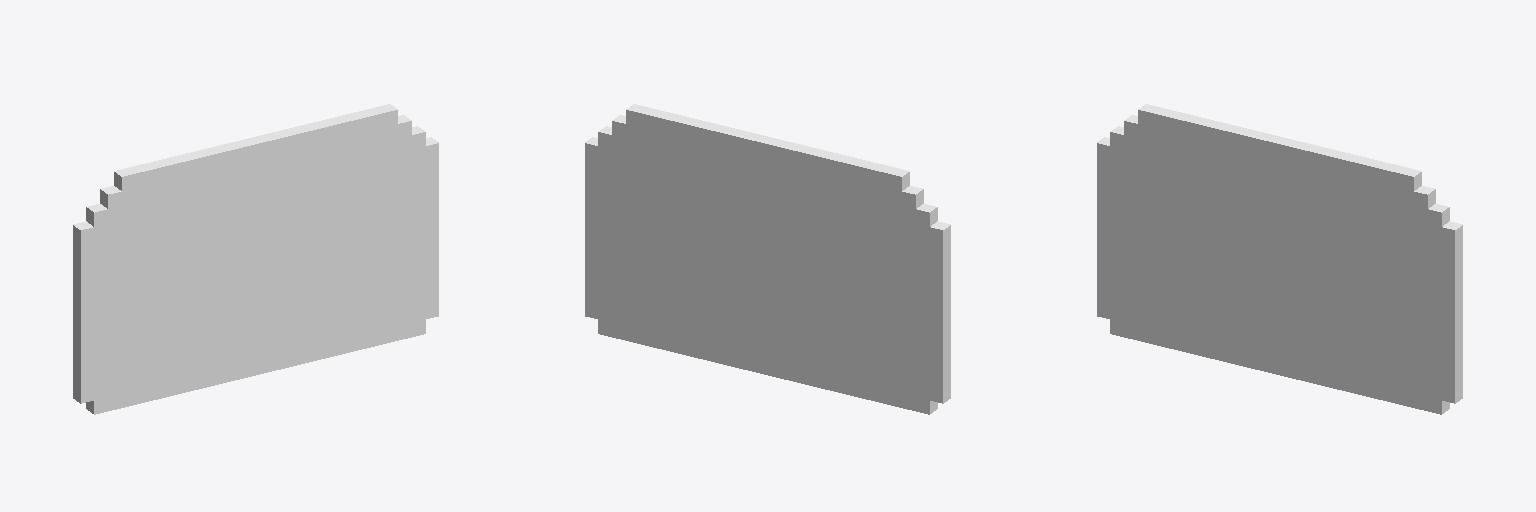
The model's file is MonkeyRobotFixedFacePlate.obj.
The picture shows the model from 3 angles: view 1: azimuth 30°, elevation 25°; view 2: azimuth 150°, elevation 25°; view 3: azimuth 330°, elevation 25°; orthographic projection.
Visible parts, largest first — view 1: object 1; view 2: object 1; view 3: object 1.
Boxes of the visible parts, x1=… form: object 1: x1=73, y1=104, x2=438, y2=414; object 1: x1=585, y1=104, x2=950, y2=414; object 1: x1=1097, y1=104, x2=1462, y2=414.
Size of the model in its own units: 2.6 by 1.6 by 0.1.